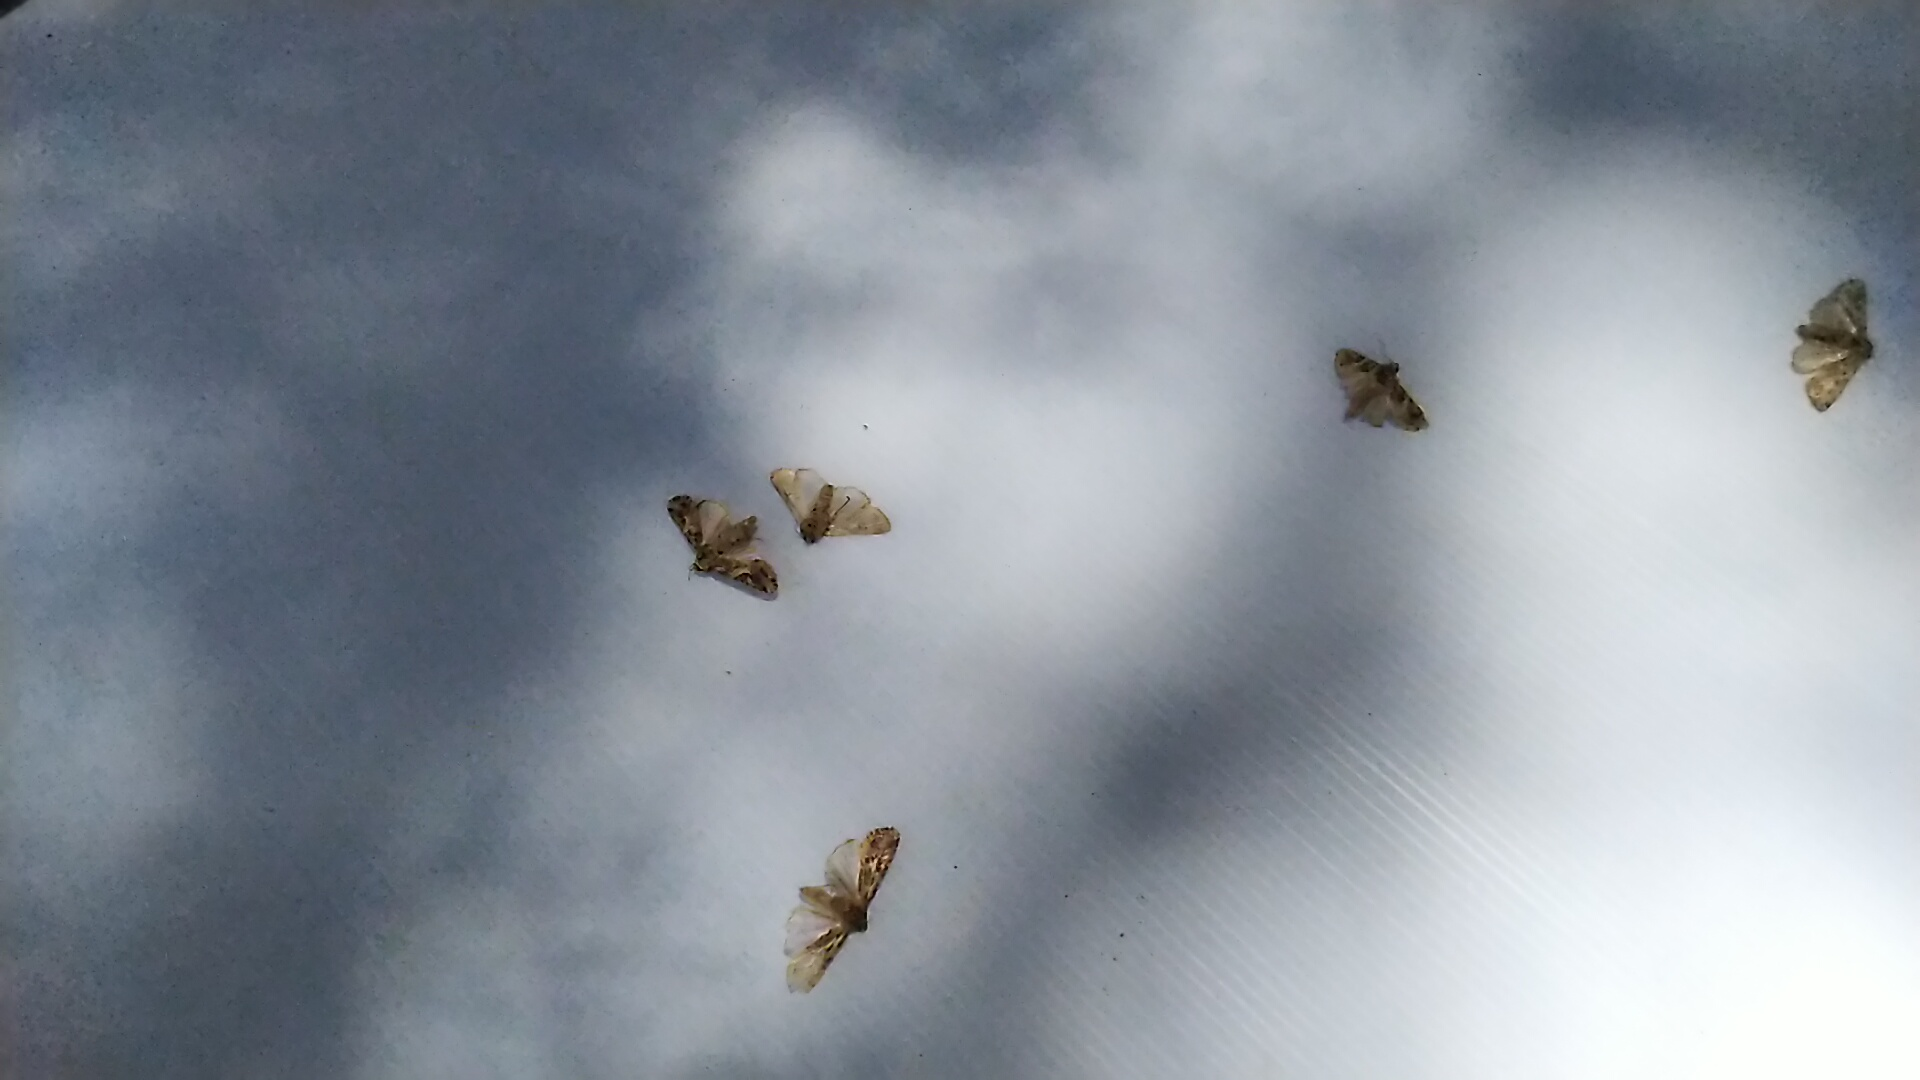INS-B: (781, 815, 931, 988), (655, 484, 793, 609), (1795, 268, 1880, 434), (762, 455, 903, 549), (1329, 342, 1439, 440)
